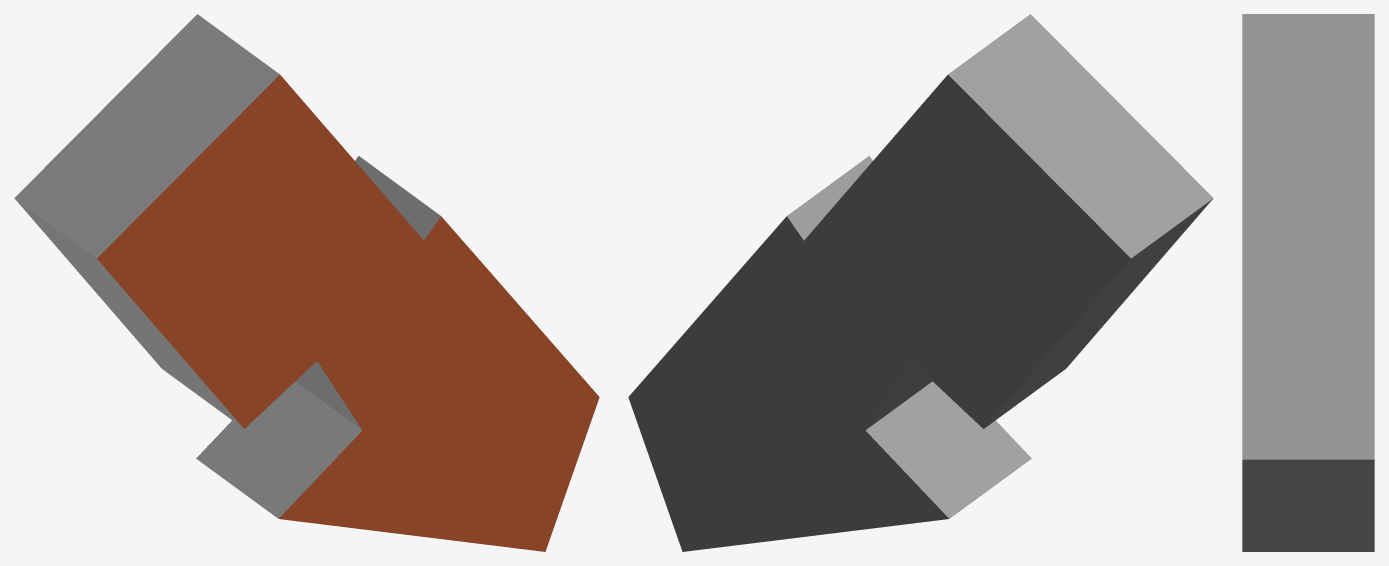
Rendered from construction_1158_assumed_A_Casa_h6m.obj.
The picture shows the model from 3 angles, left to right: view 1: azimuth 30°, elevation 25°; view 2: azimuth 150°, elevation 25°; view 3: azimuth 270°, elevation 25°; orthographic projection. The views are drawn at different scales.
Visible parts, largest first — view 1: construction_1158_assumed_A_Casa; view 2: construction_1158_assumed_A_Casa; view 3: construction_1158_assumed_A_Casa.
Part boxes in pixels (x1=…): construction_1158_assumed_A_Casa: x1=14, y1=14, x2=599, y2=551; construction_1158_assumed_A_Casa: x1=628, y1=14, x2=1213, y2=551; construction_1158_assumed_A_Casa: x1=1242, y1=14, x2=1374, y2=551.
Size of the model in its own units: 21.09 by 21.74 by 6.
